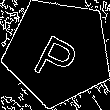P_NE: (30, 21, 86, 83)
